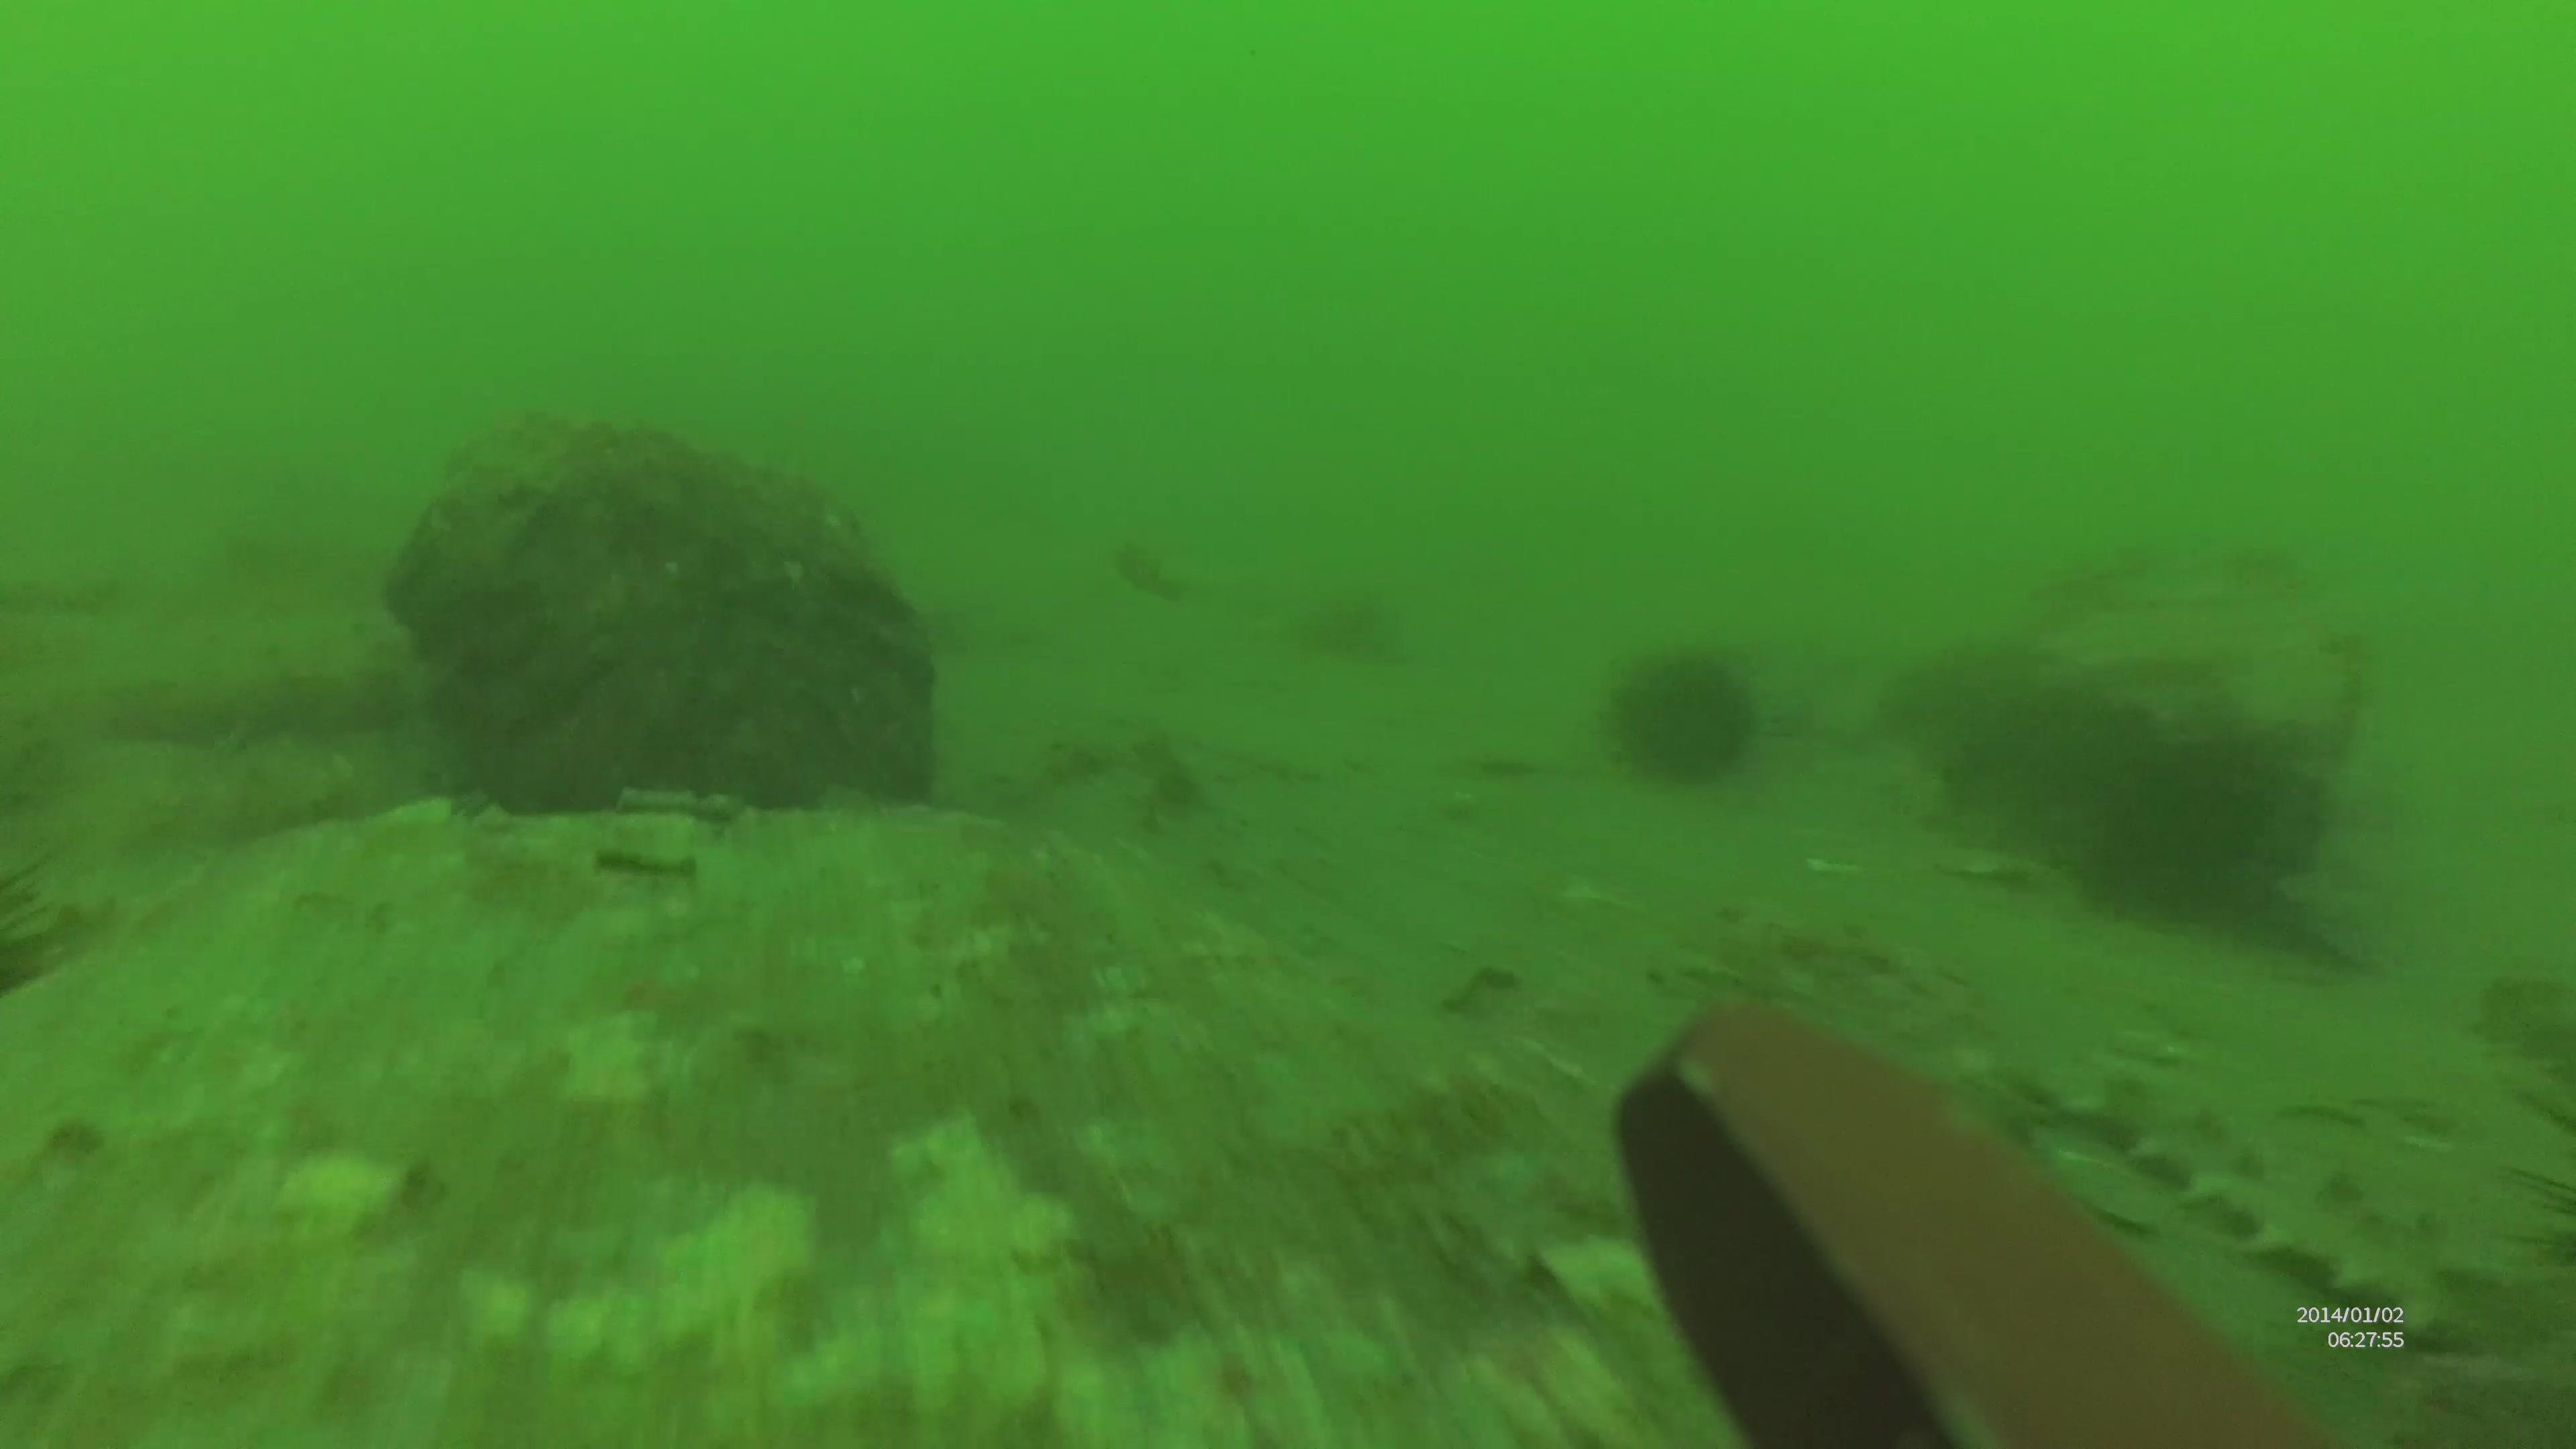echinus: (1591, 633, 1767, 794)
holothurian: (2052, 1044, 2486, 1355)
